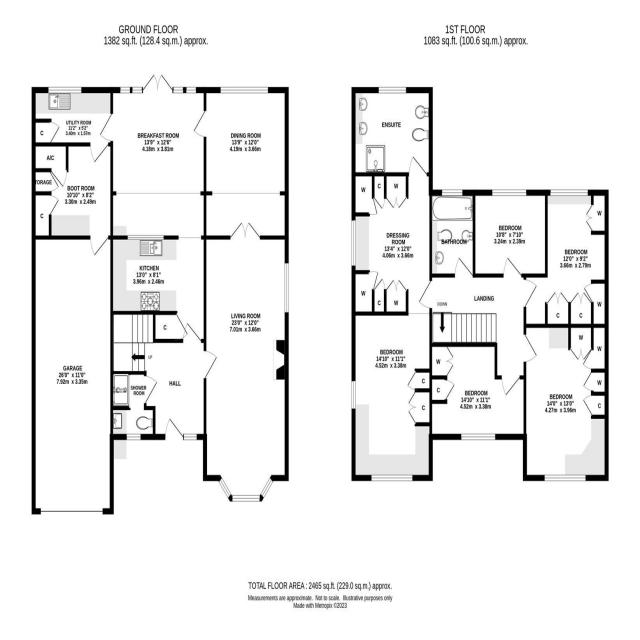DOOR: (417, 279, 433, 310), (203, 349, 218, 380), (408, 154, 428, 177), (523, 333, 538, 363), (98, 112, 113, 142), (89, 142, 109, 164), (89, 236, 109, 258), (523, 279, 538, 308), (144, 375, 158, 405), (182, 322, 202, 343), (501, 375, 520, 397), (454, 256, 473, 278), (503, 256, 522, 278), (165, 418, 184, 440), (193, 110, 207, 138)
DOUBLE DOOR: (142, 73, 173, 93), (230, 221, 260, 240)
ROOM: (202, 221, 290, 504), (98, 73, 207, 240), (192, 86, 289, 240), (351, 312, 434, 482), (522, 323, 609, 482), (351, 154, 433, 318), (524, 189, 610, 329), (110, 235, 207, 344), (428, 341, 527, 441), (472, 189, 548, 278)
WINDOW: (220, 86, 268, 94), (544, 474, 586, 482), (371, 474, 413, 482), (218, 477, 232, 500), (260, 476, 274, 499), (550, 189, 589, 197), (491, 189, 527, 197), (461, 433, 496, 441), (48, 86, 82, 94), (232, 494, 260, 503), (284, 263, 289, 313), (378, 86, 407, 94), (351, 220, 356, 266), (441, 188, 463, 197), (127, 235, 164, 240), (351, 380, 356, 410), (126, 433, 141, 441), (184, 433, 197, 441), (173, 86, 184, 94), (120, 86, 130, 94), (132, 86, 142, 94), (186, 86, 196, 94)
